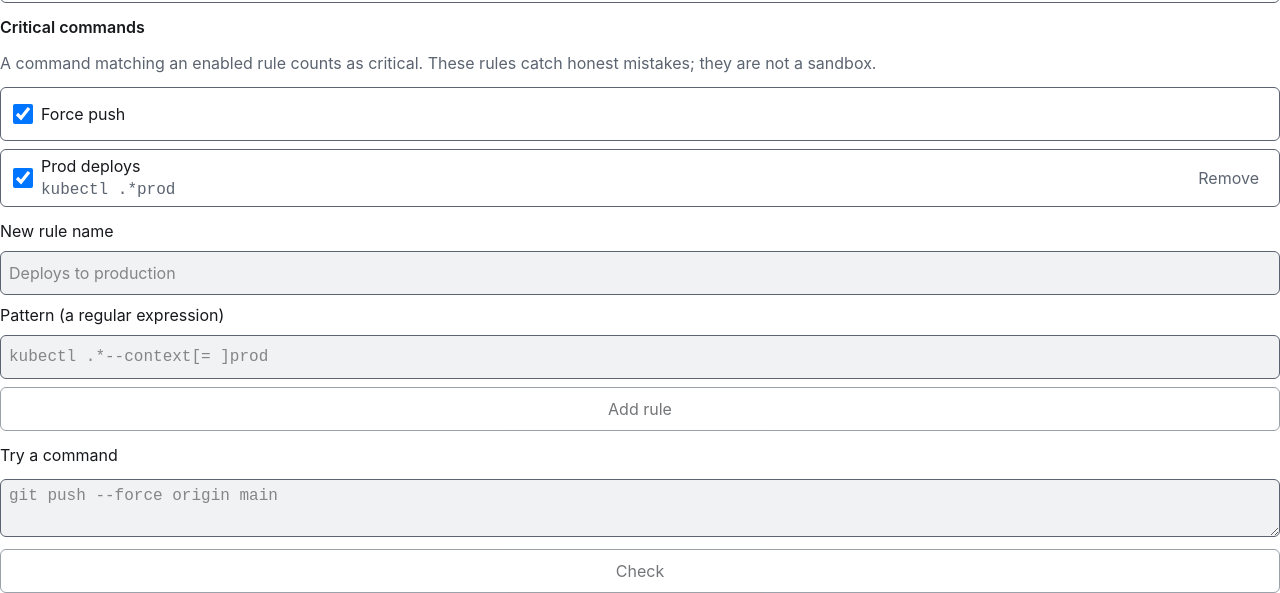
Test: AccessModes › says when a check fails
(page scrolled)
Type "ls" into the text box labelled "Try a command". click: (640, 508)
box: [0,479,1279,537]
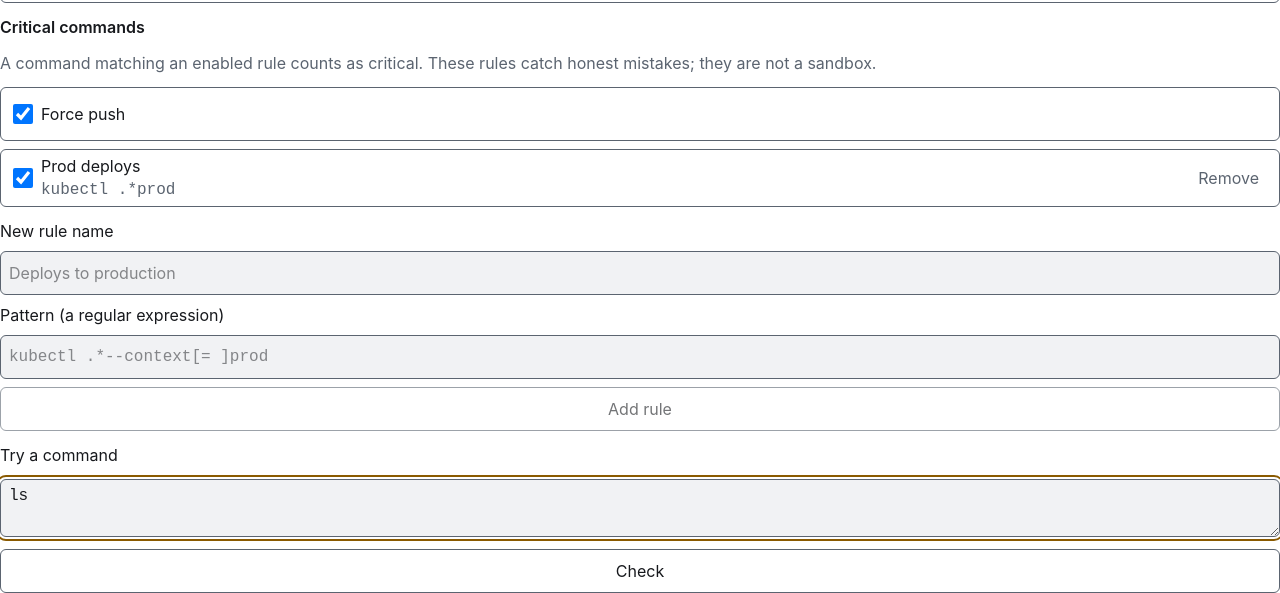
Click the button "Check". click: (640, 571)
box: [0,549,1279,592]
(page scrolled)
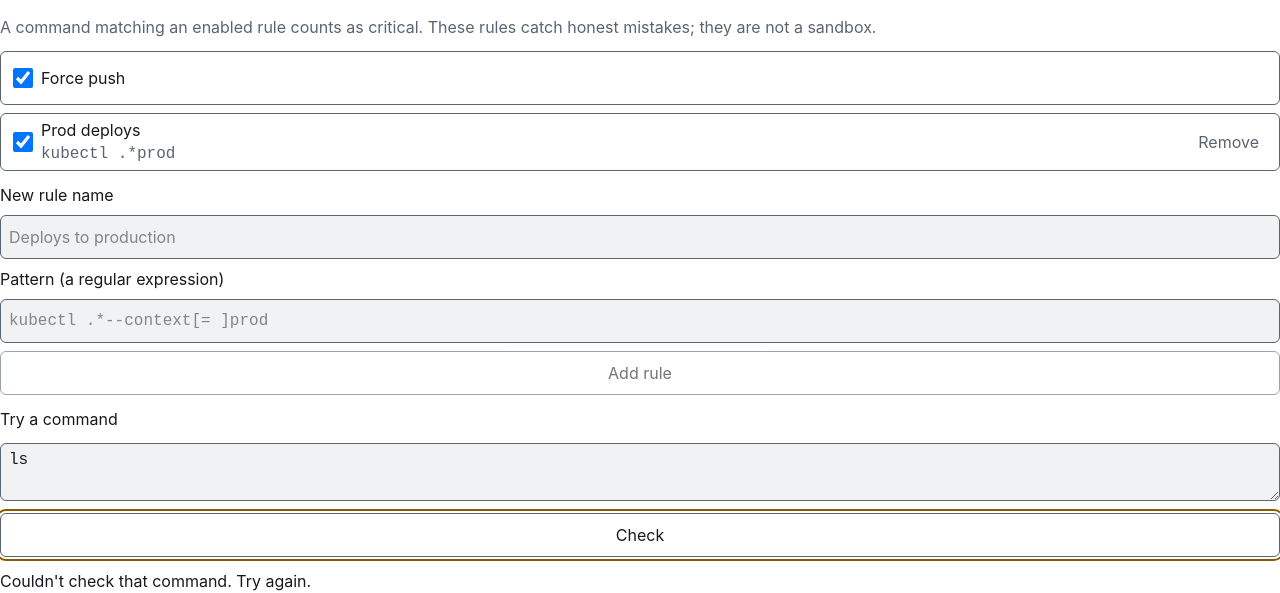
Result: the message reads "Couldn't check that command. Try again." at [0,571,311,591]
